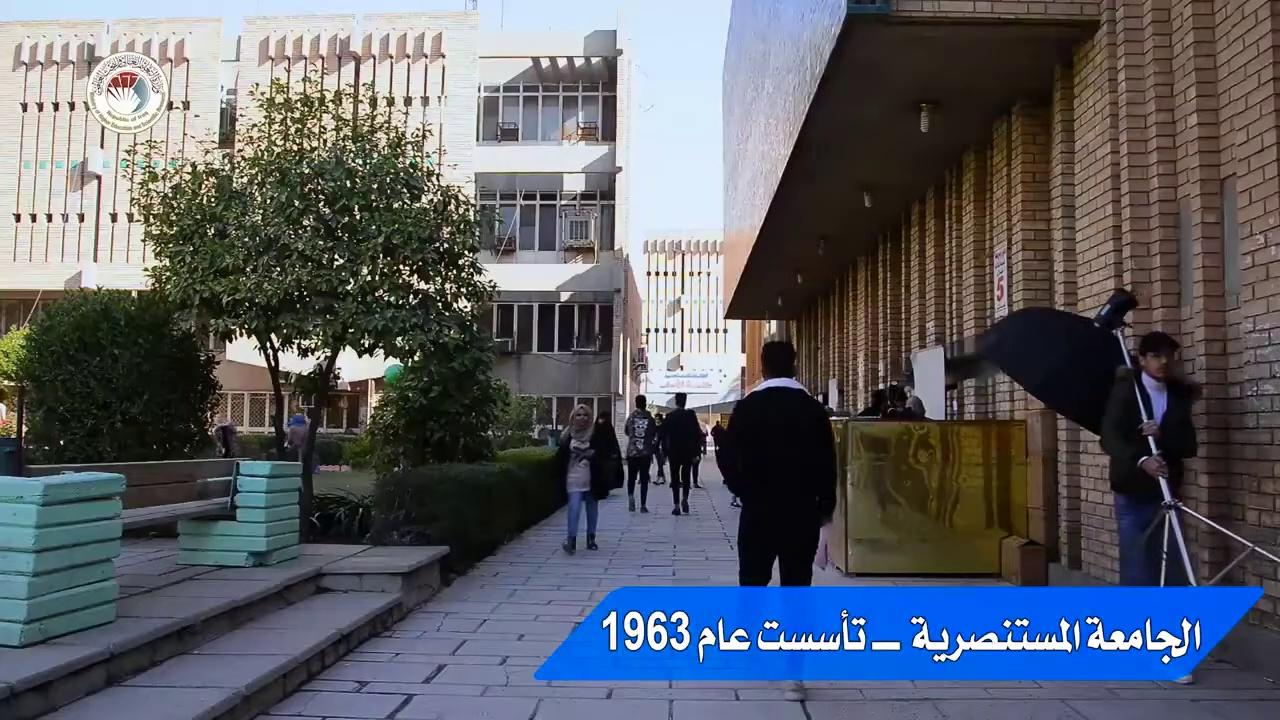person: (717, 339, 838, 586), (1098, 330, 1200, 586), (555, 403, 606, 553), (657, 392, 702, 515), (624, 394, 657, 512), (651, 411, 667, 485), (854, 388, 888, 417), (884, 388, 915, 418)
tree: (118, 59, 505, 539), (3, 283, 223, 465), (345, 311, 510, 479), (0, 321, 35, 473)
